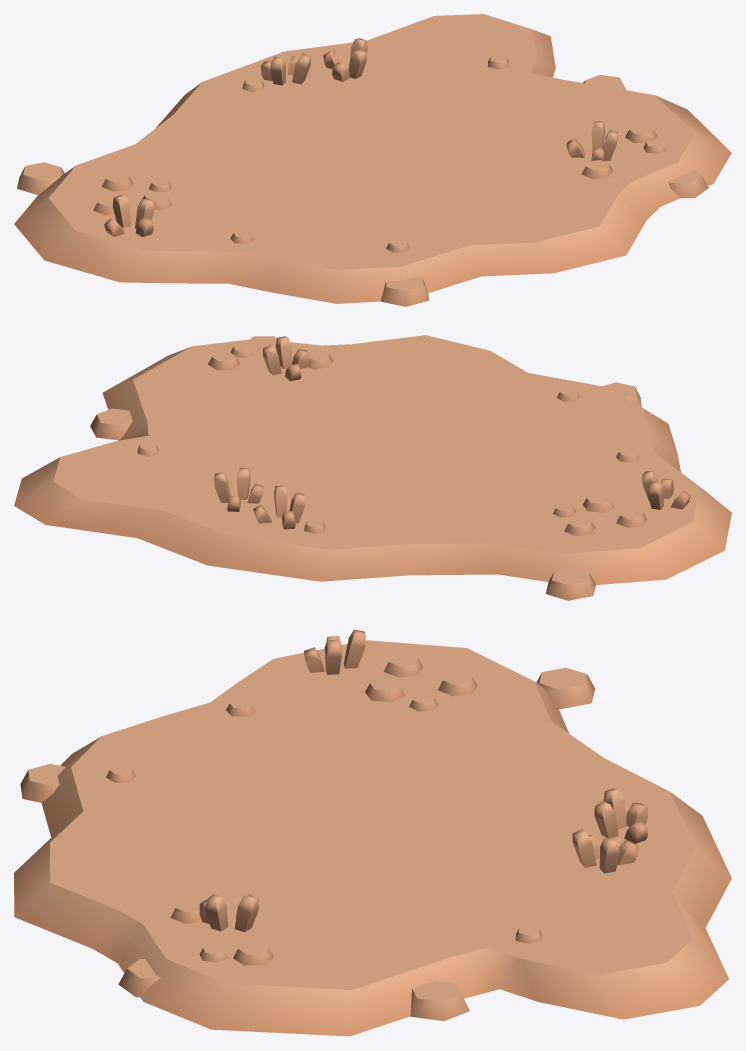
The model's file is patch-sand-foliage.glb.
3 views of the same model, one above another, from view 1: azimuth 30°, elevation 25°; view 2: azimuth 150°, elevation 25°; view 3: azimuth 270°, elevation 25° (orthographic). The views are drawn at different scales.
Visible parts, largest first — view 1: patch-sand-foliage; view 2: patch-sand-foliage; view 3: patch-sand-foliage.
Boxes of the visible parts, box(x1,y1,x2,y2) form: patch-sand-foliage: box(14, 14, 731, 306); patch-sand-foliage: box(14, 335, 731, 600); patch-sand-foliage: box(14, 629, 731, 1036).
Bounding box in the file's own units: 7.74 × 0.5638 × 6.04.
Materials: 1 (1 with a texture image).
